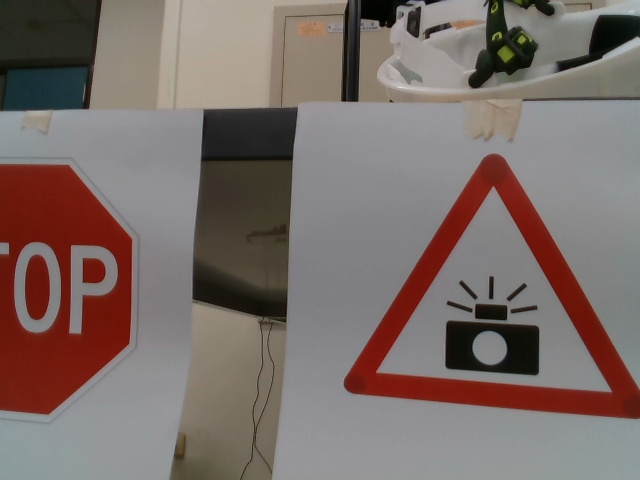camera: (338, 152, 640, 425)
